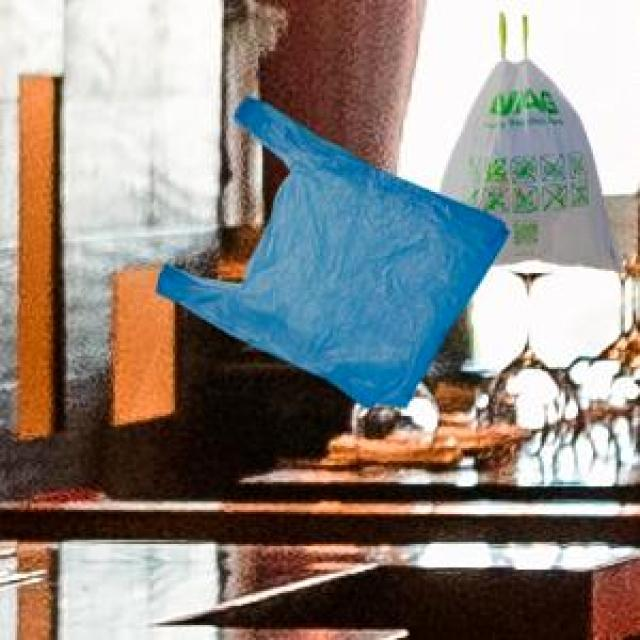Plastic_Bag: (153, 93, 507, 404), (436, 54, 620, 270)
